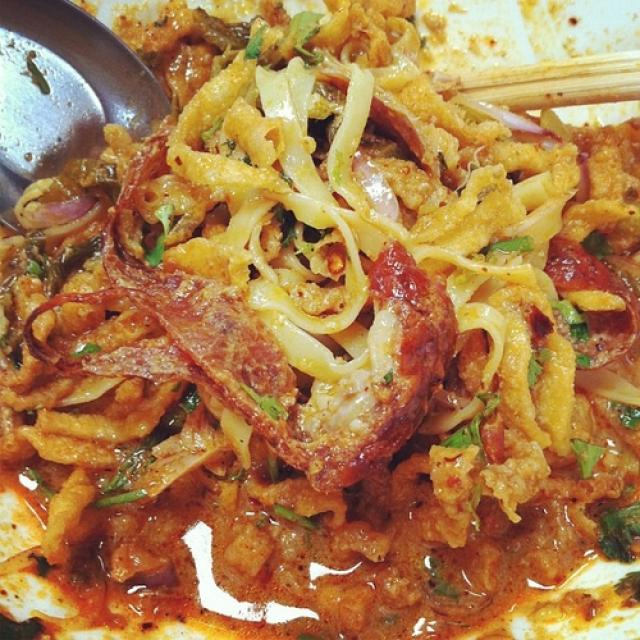面条主食: (15, 23, 626, 613)
